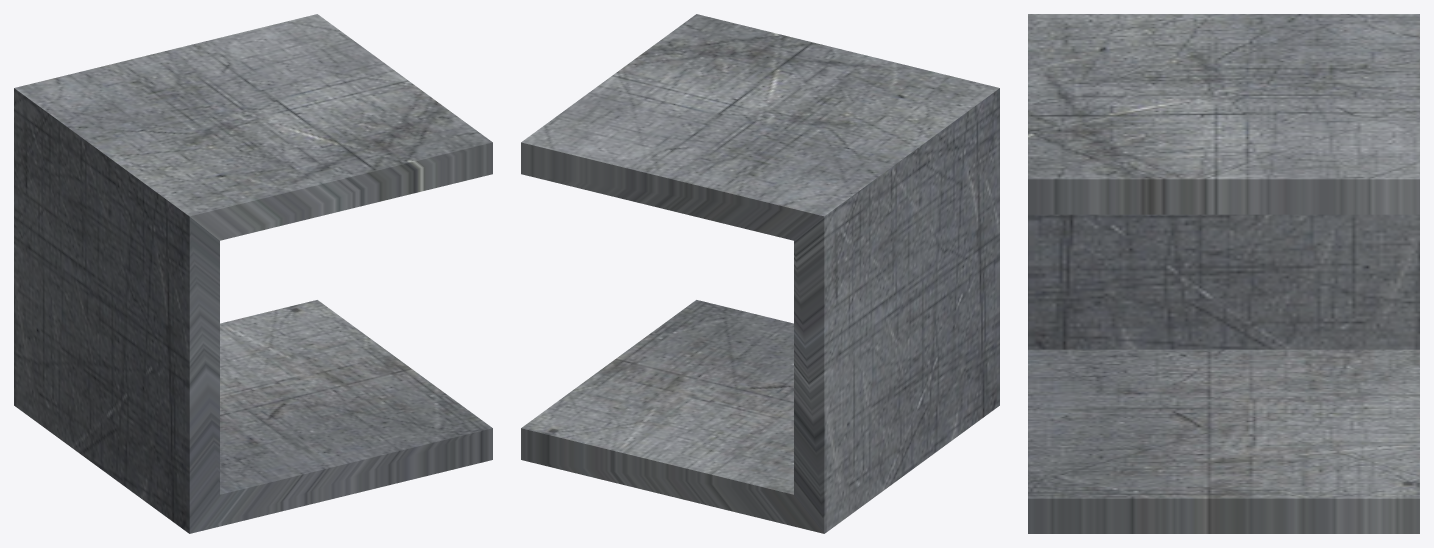
The model's file is TheOuterLevel.fbx_3x3_3Pass.fbx.
3 renders of one model, left to right at view 1: azimuth 30°, elevation 25°; view 2: azimuth 150°, elevation 25°; view 3: azimuth 270°, elevation 25°, orthographic. The views are drawn at different scales.
Visible parts, largest first — view 1: 3x3_3Pass; view 2: 3x3_3Pass; view 3: 3x3_3Pass.
Part boxes in pixels (bbox=[...]): 3x3_3Pass: bbox=[14, 14, 492, 533]; 3x3_3Pass: bbox=[521, 14, 999, 533]; 3x3_3Pass: bbox=[1028, 14, 1419, 533].
Size of the model in its own units: 300 by 300 by 300.
1 material, 1 textured.
